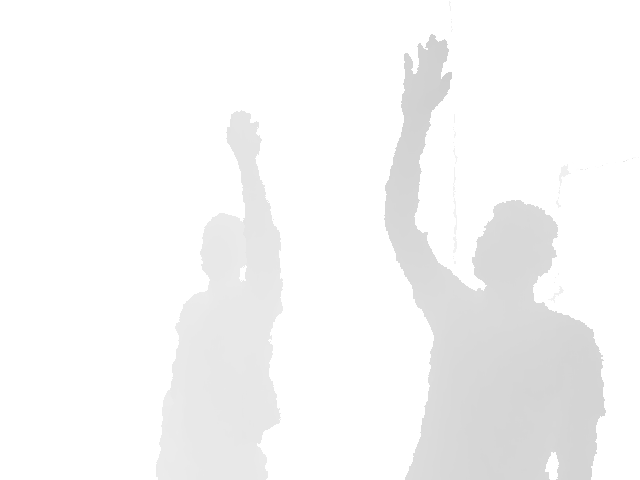hand: (400, 34, 452, 121), (226, 111, 262, 166)
head: (473, 198, 559, 306), (200, 212, 249, 285)
person: (382, 34, 607, 480), (154, 111, 285, 480)
